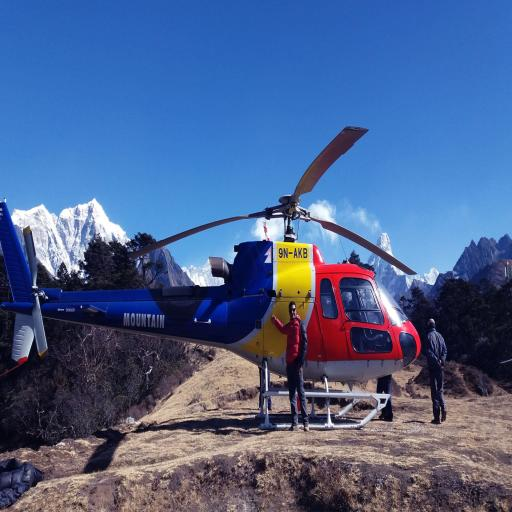helicopter: (1, 119, 430, 441)
